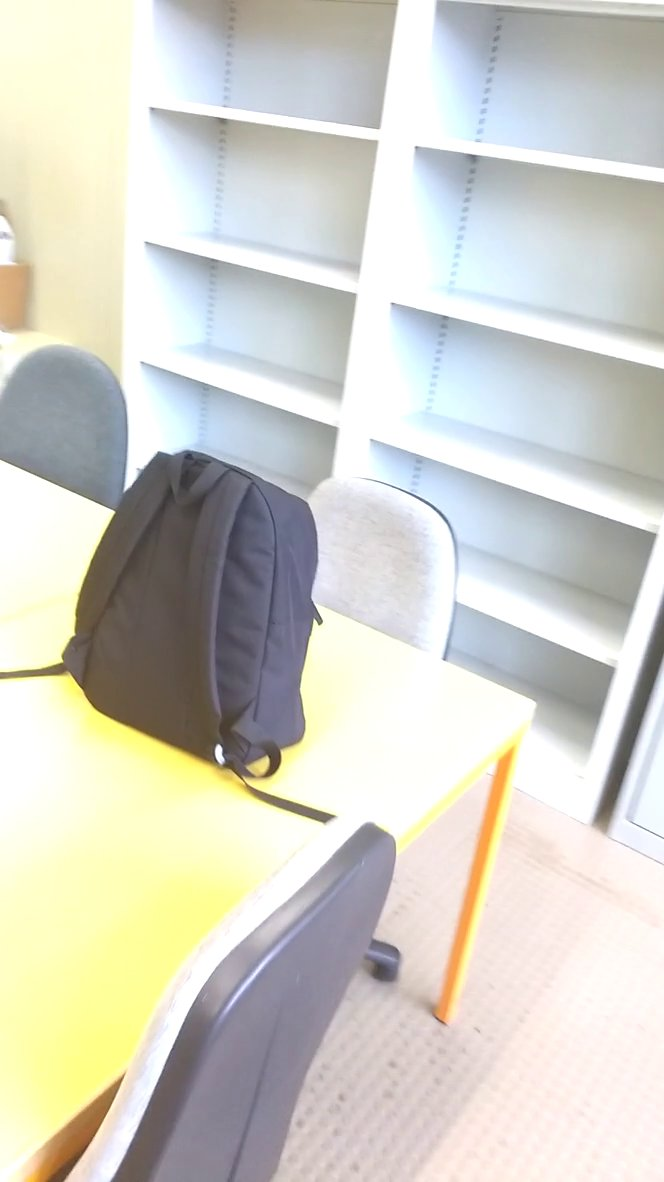bag: (52, 440, 325, 789)
chair: (25, 806, 403, 1182), (288, 463, 470, 681), (2, 331, 137, 531)
